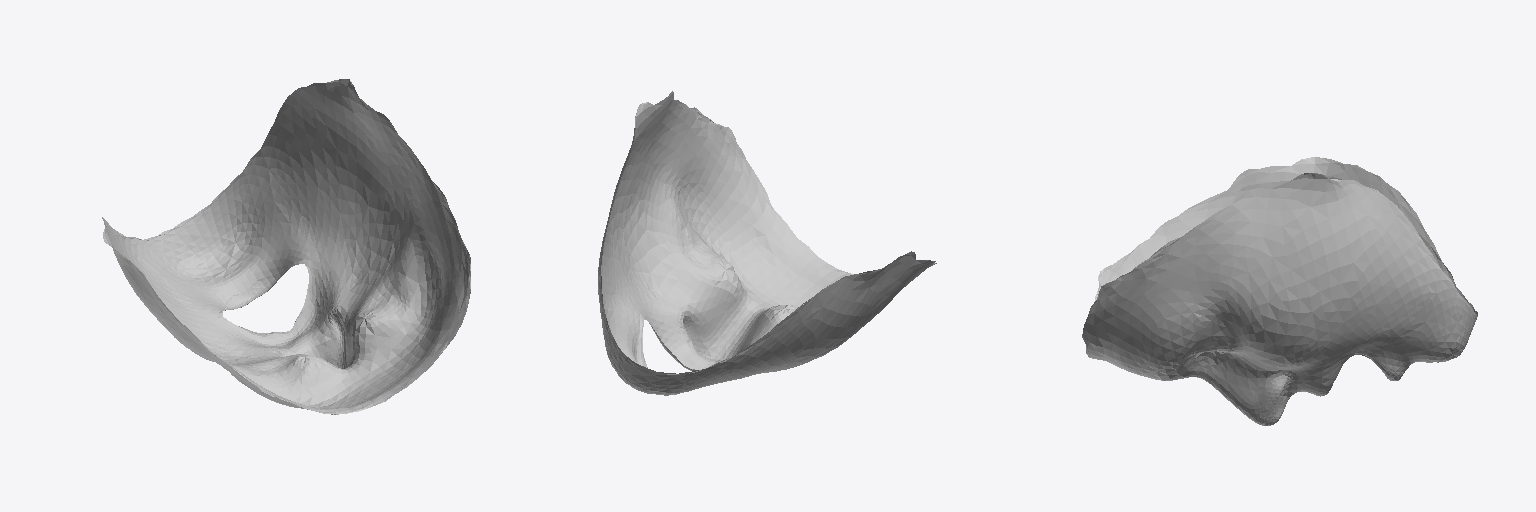
The model's file is face_gab_sfm73.obj.
3 renders of one model, left to right at view 1: azimuth 30°, elevation 25°; view 2: azimuth 150°, elevation 25°; view 3: azimuth 270°, elevation 25°, orthographic.
Bounding box in the file's own units: 167 × 163 × 213.